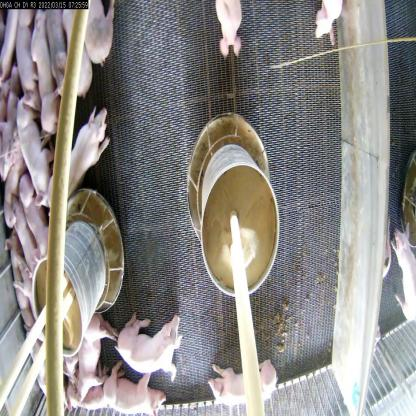Pig: (36, 98, 112, 228), (59, 0, 110, 111), (34, 0, 76, 134), (109, 297, 173, 384), (15, 89, 55, 196), (74, 313, 119, 407), (91, 360, 167, 415), (205, 366, 284, 415), (42, 1, 80, 93), (212, 0, 256, 63), (17, 172, 54, 244), (75, 0, 123, 55), (316, 0, 352, 58)
